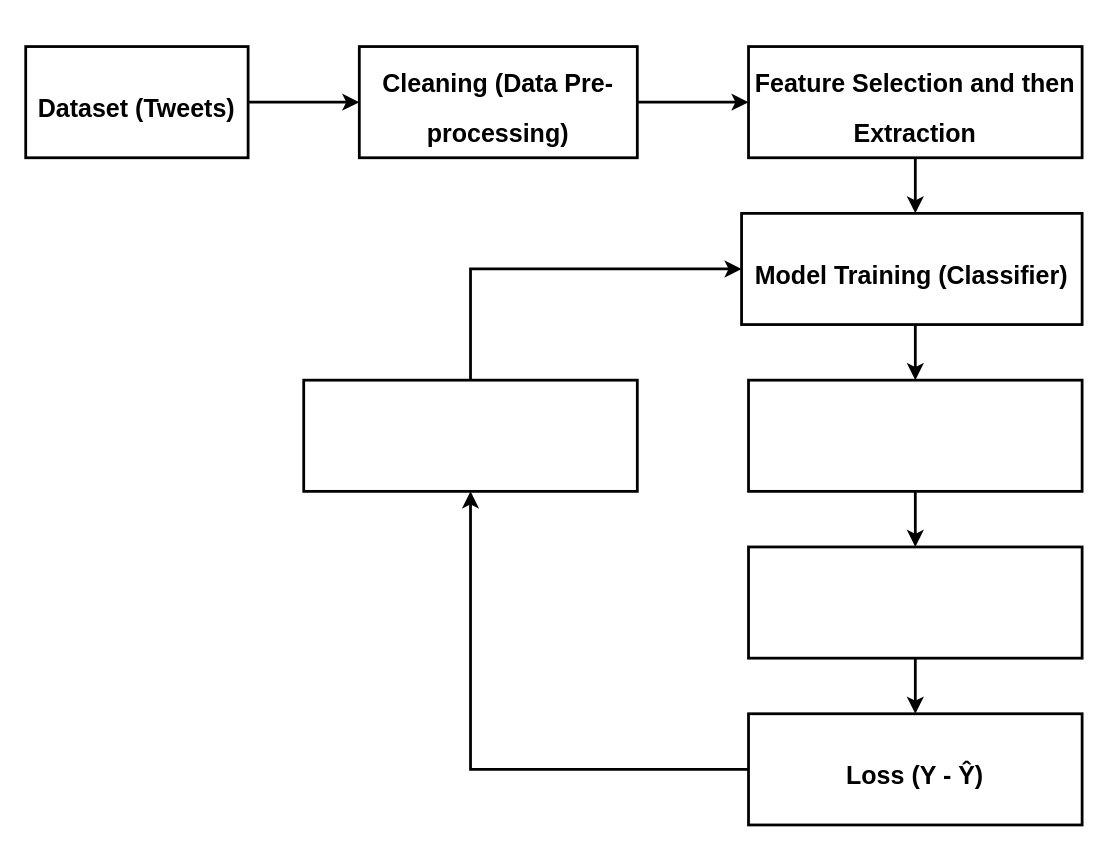
This 1106x849 diagram has some shape labels left out. Each missing label, with the box of its shape:
Model Evaluation: (746, 545, 1083, 659)
Testing (Test Data): (746, 378, 1083, 492)
θ Parameter Updation: (302, 378, 638, 492)
